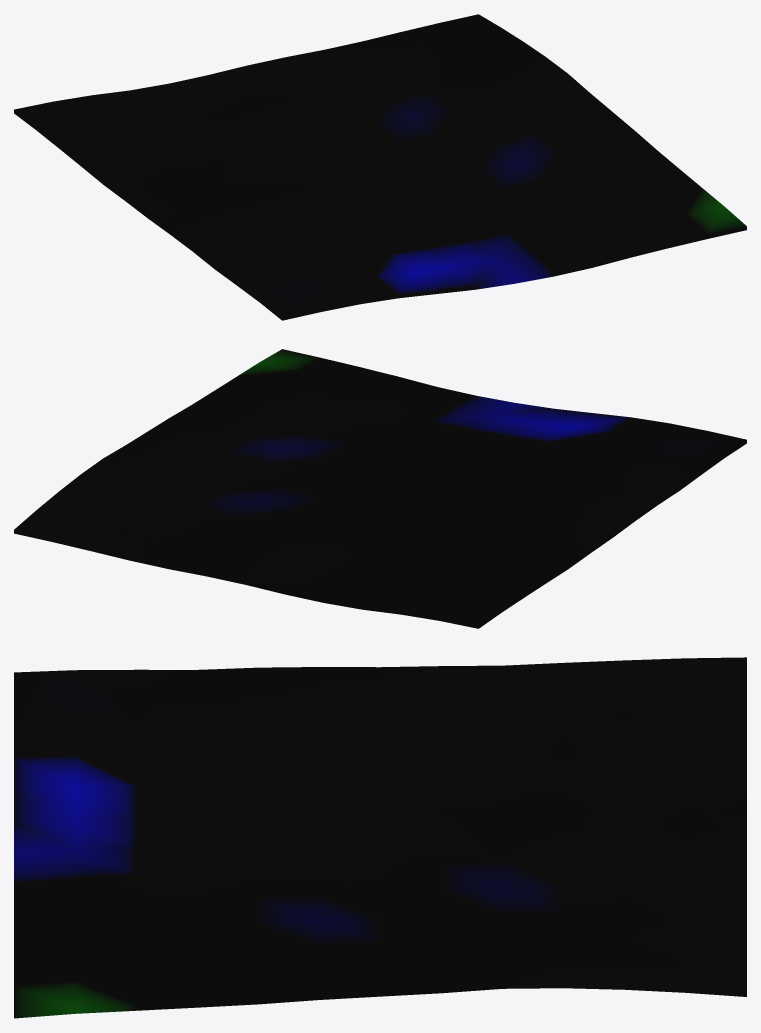
File: coast_14_1.glb
The picture shows the model from 3 angles, top to bottom: view 1: azimuth 30°, elevation 25°; view 2: azimuth 150°, elevation 25°; view 3: azimuth 270°, elevation 25°; orthographic projection. The views are drawn at different scales.
Visible parts, largest first — view 1: terrain; view 2: terrain; view 3: terrain.
Boxes of the visible parts, x1,y1,x2,y2 form: terrain: (14,14,746,320); terrain: (14,349,746,628); terrain: (14,657,746,1018).
Bounding box in the file's own units: 192 × 14.84 × 192.
